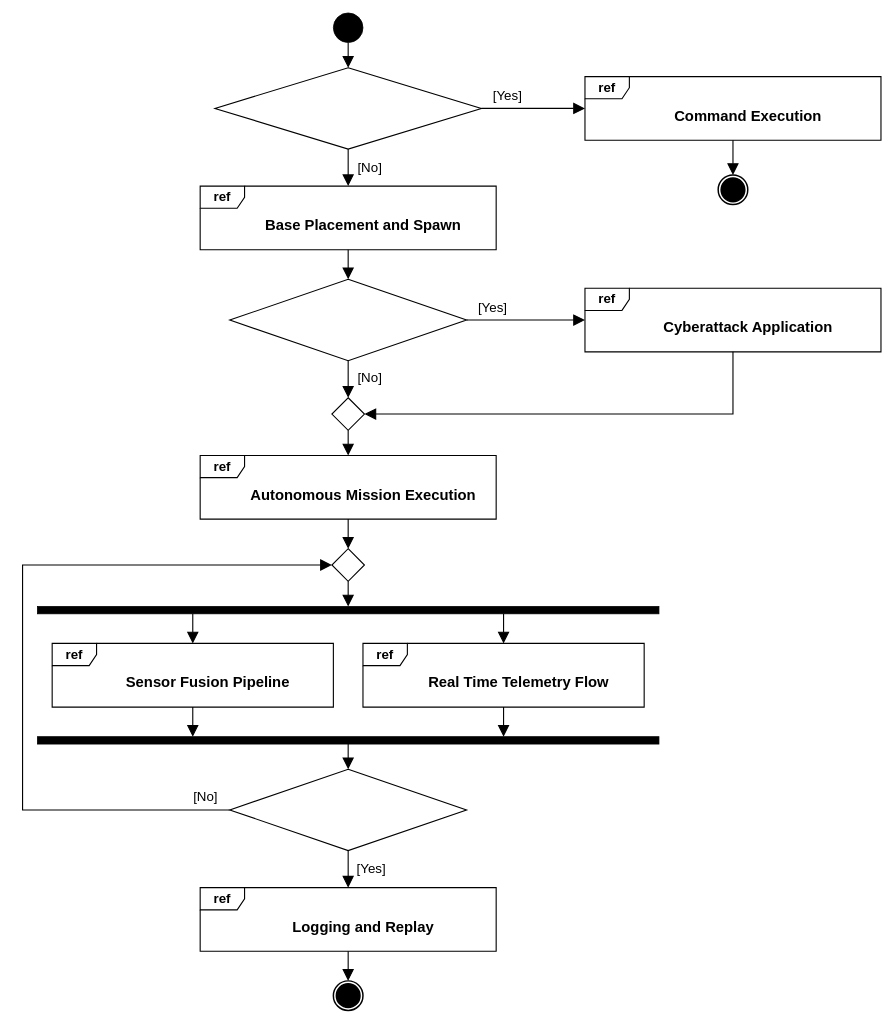
The diagram is 895 pixels wide and 1024 high, and some of its shapes have lost their labels. The centre of each missing label's shape, as x and y in pixels:
"Attack configured?" belongs at (348,319).
"Manual control requested?" belongs at (348,108).
"Mission decided?" belongs at (348,809).
